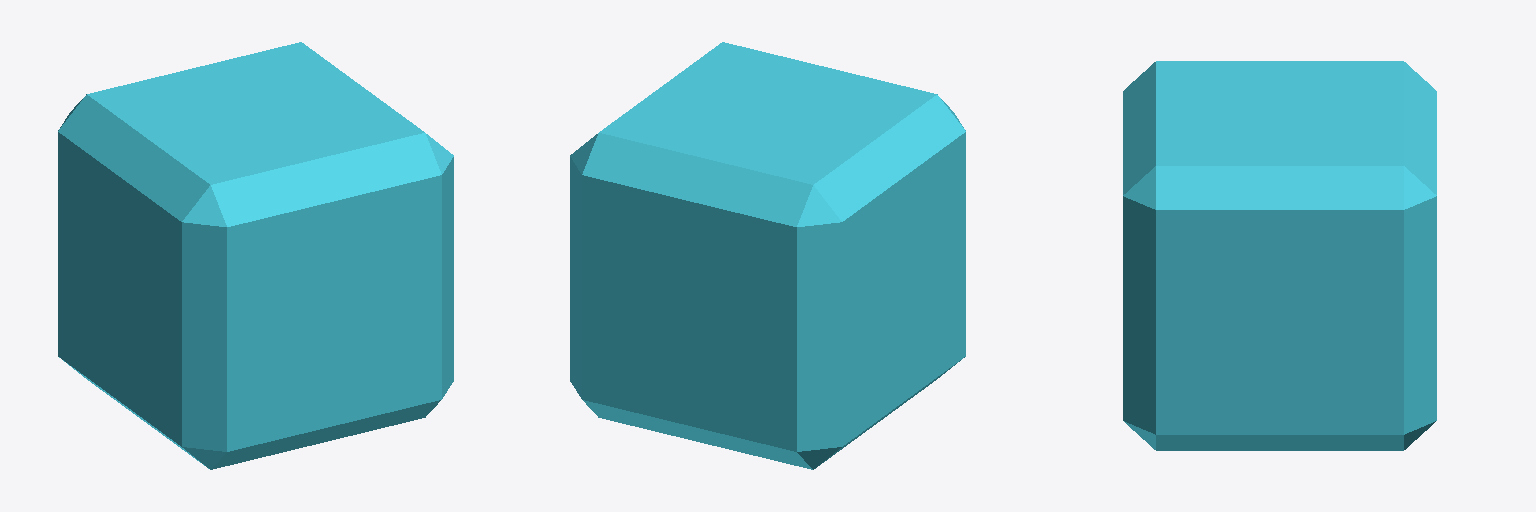
Rendered from iceblocklol.obj.
3 views of the same model, side by side, from view 1: azimuth 30°, elevation 25°; view 2: azimuth 150°, elevation 25°; view 3: azimuth 270°, elevation 25° (orthographic).
Parts seen in each view (by area): view 1: Cube; view 2: Cube; view 3: Cube.
Part boxes in pixels (x1,y1,x2,y2): Cube: (58, 42, 453, 469); Cube: (570, 42, 965, 469); Cube: (1123, 61, 1436, 450).
Size of the model in its own units: 2 by 2 by 2.